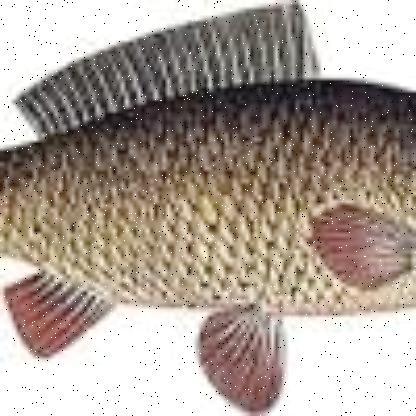ikan-mas: (4, 0, 415, 390)
